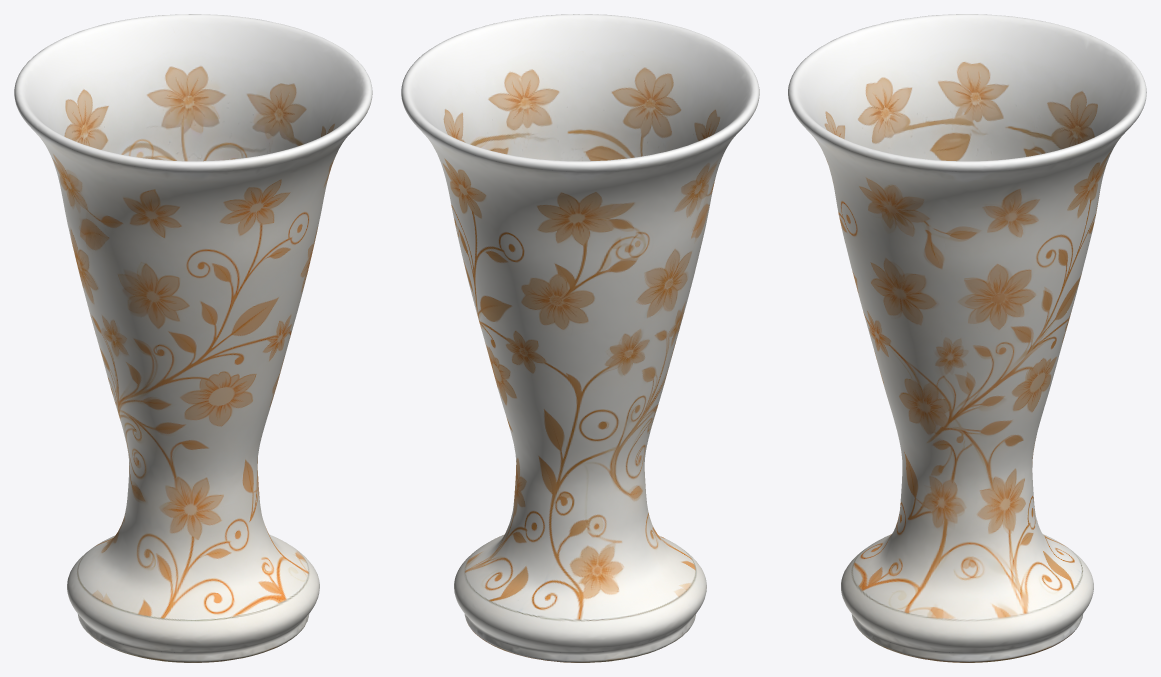
Rendered from cousin_3.glb.
The picture shows the model from 3 angles, left to right: view 1: azimuth 30°, elevation 25°; view 2: azimuth 150°, elevation 25°; view 3: azimuth 270°, elevation 25°; orthographic projection.
Size of the model in its own units: 1.18 by 1.91 by 1.18.
1 material, 1 textured.
